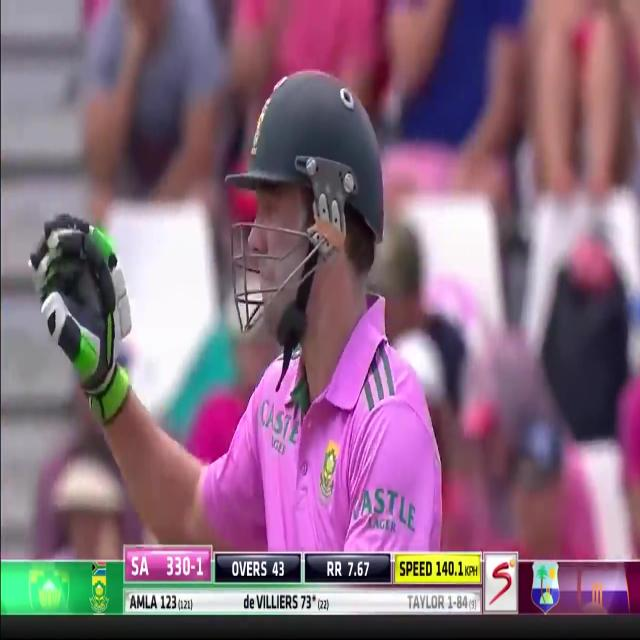Ball: (180, 79, 457, 557)
